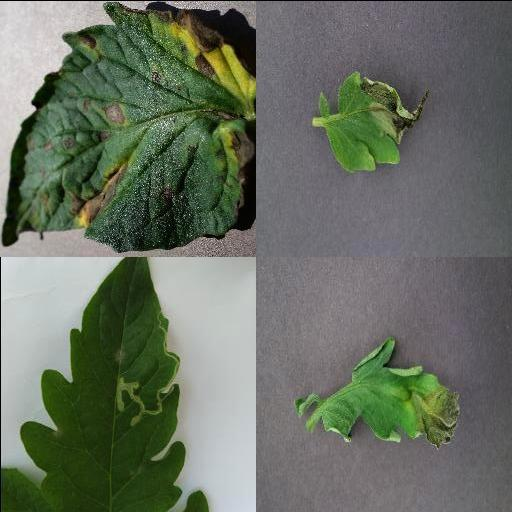Early Blight: (2, 0, 256, 249)
Late Blight: (318, 336, 462, 446), (318, 68, 430, 172)
Leaf Miner: (20, 256, 186, 512)
